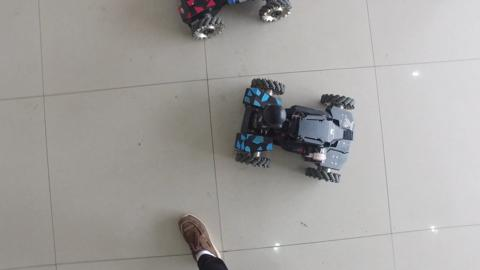chariot: (226, 73, 364, 190), (170, 1, 294, 50)
